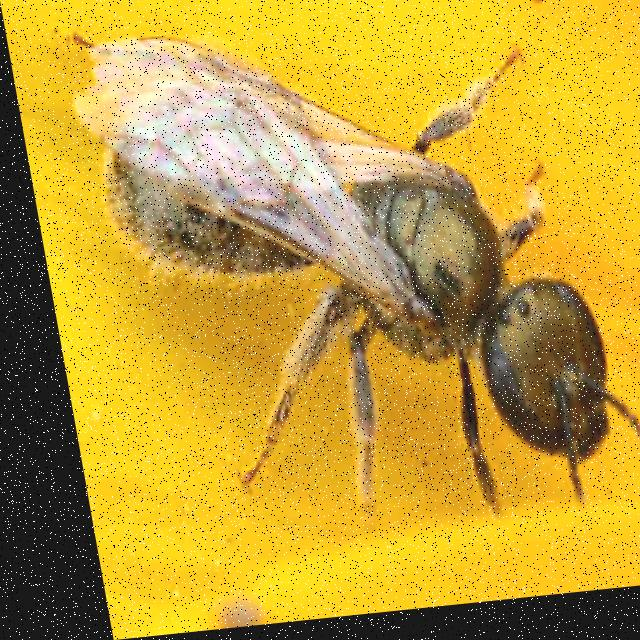Meliponula: (47, 0, 640, 582)
